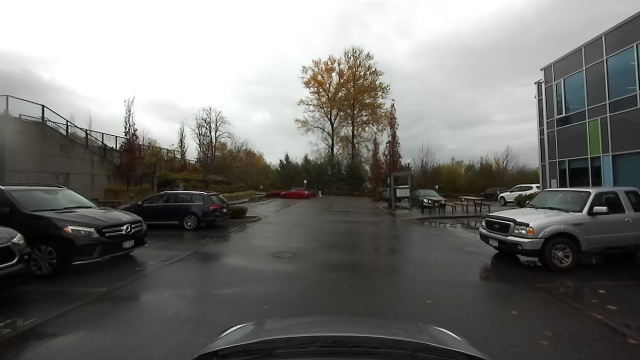car: (477, 183, 636, 270), (4, 182, 149, 275), (134, 187, 230, 233), (494, 180, 538, 206), (414, 186, 446, 208), (281, 188, 311, 201)
